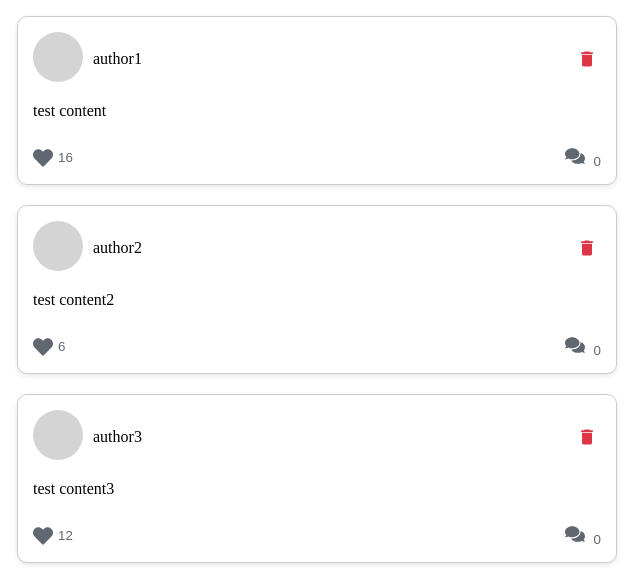
Test: Liking a Post › should increase like count optimistically and send POST request
Click the button named "like": (53,158) [33,146,73,169]
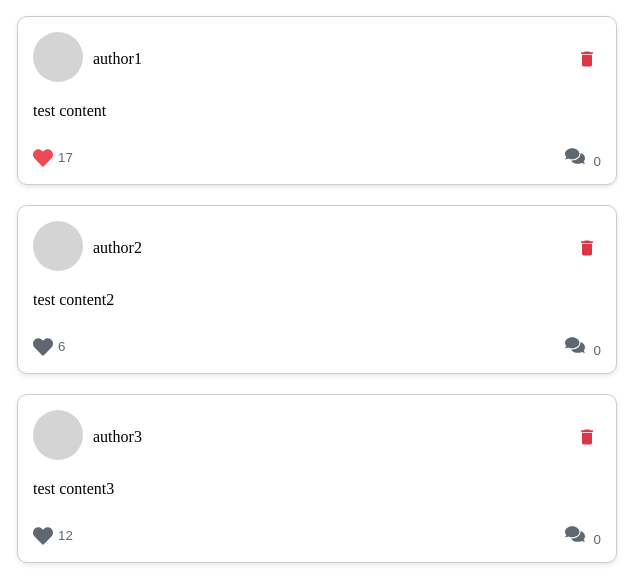
Expected: the button "17" is shown, [33,146,73,169]
